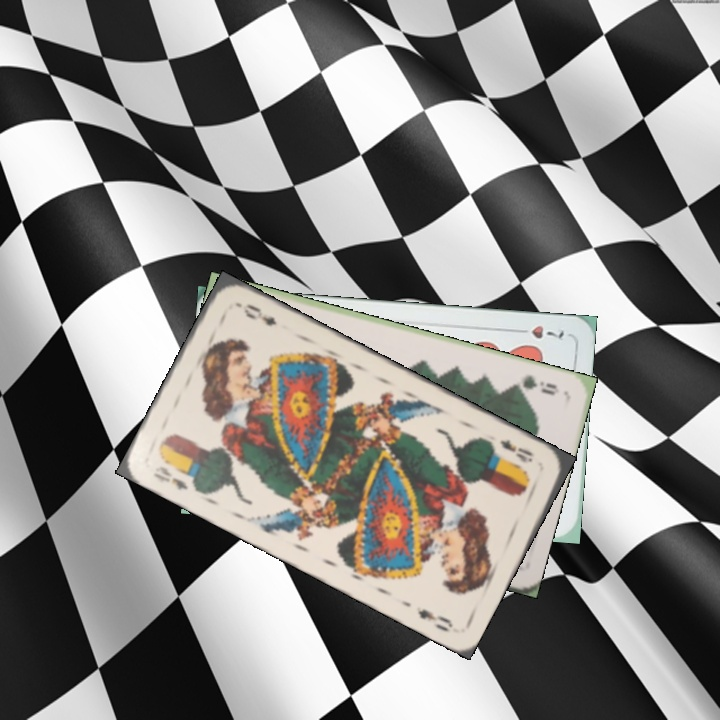EO: (148, 461, 191, 493), (496, 434, 535, 466)
G9: (506, 370, 559, 398)
H7: (510, 321, 567, 342)
